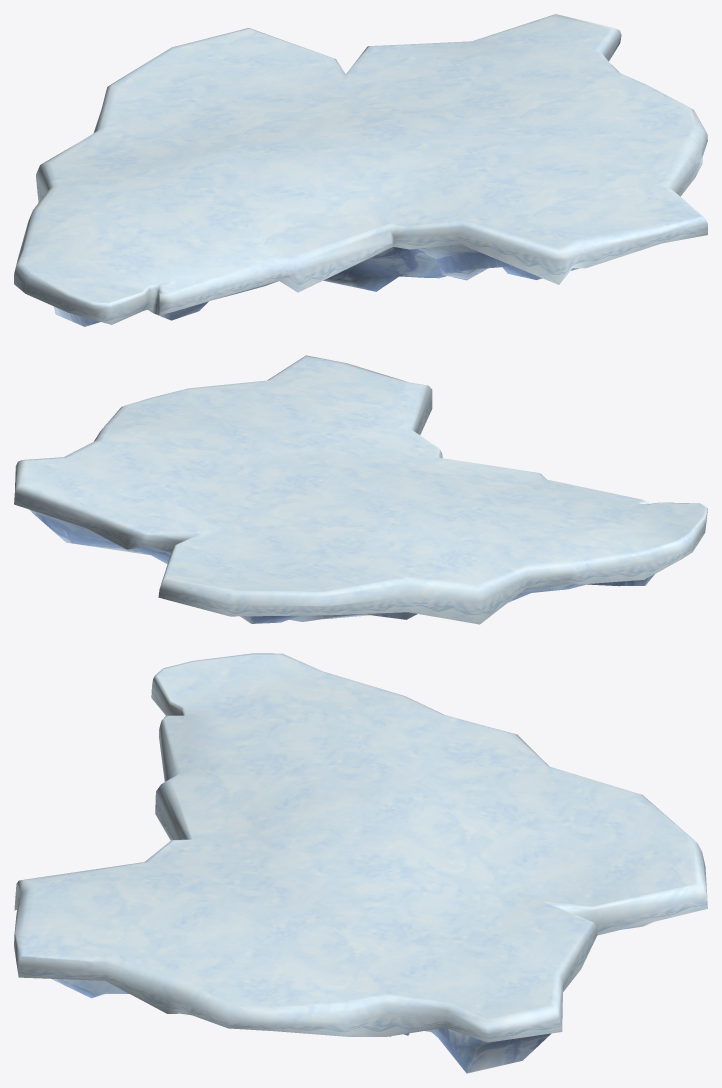
The model's file is bel_env_plateau_04.glb.
3 views of the same model, one above another, from view 1: azimuth 30°, elevation 25°; view 2: azimuth 150°, elevation 25°; view 3: azimuth 270°, elevation 25° (orthographic). The views are drawn at different scales.
Visible parts, largest first — view 1: bel_env_plateau_04; view 2: bel_env_plateau_04; view 3: bel_env_plateau_04.
Part boxes in pixels (<box>): bel_env_plateau_04: <box>14,14,707,326</box>; bel_env_plateau_04: <box>14,355,707,624</box>; bel_env_plateau_04: <box>14,653,707,1073</box>.
Bounding box in the file's own units: 14.7 × 2.94 × 11.56.
3 materials, 3 textured.
